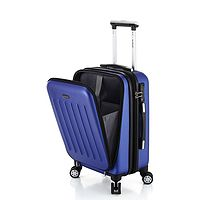luggage: (47, 20, 153, 197)
